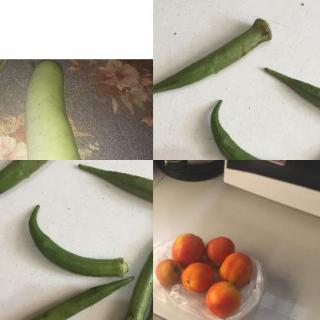Tomat: (153, 223, 277, 317)
